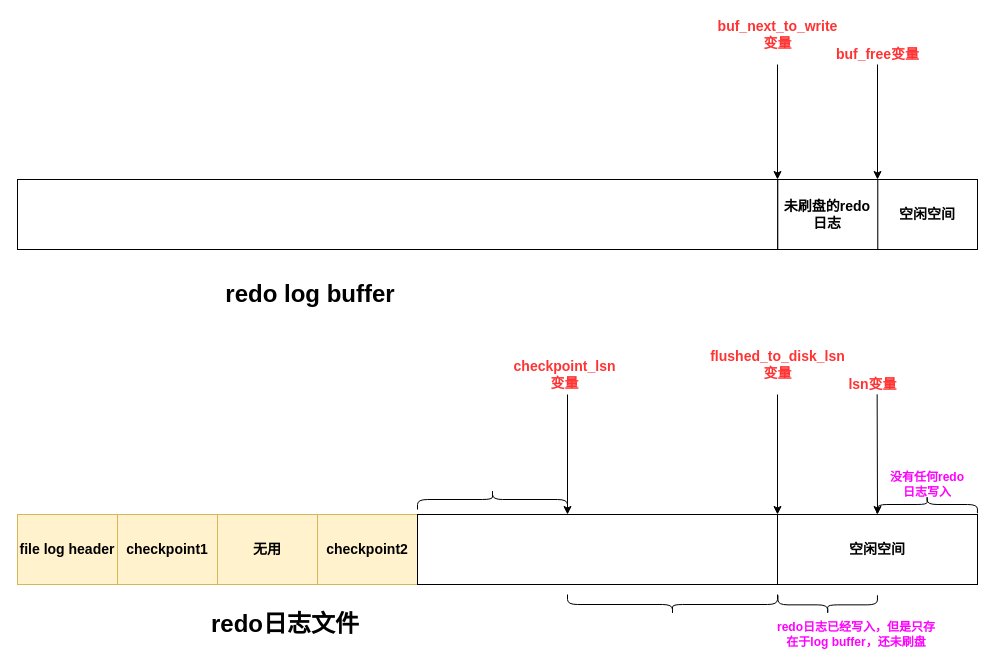
This 995x666 diagram has some shape labels left out. The shapes that lost their labels are listed below. From the top down, each one's box as (x1, y1, x2, y2) in pixels, then its label:
(16, 178, 778, 250): 已经刷盘的redo日志
(416, 488, 568, 510): 已经刷盘的redo日志 对应的脏页已经刷盘 可以被覆盖
(416, 514, 778, 584): 已写入redo文件的redo日志
(566, 594, 778, 614): 已经刷盘的redo日志 但是对应的脏页不知道是否刷盘
